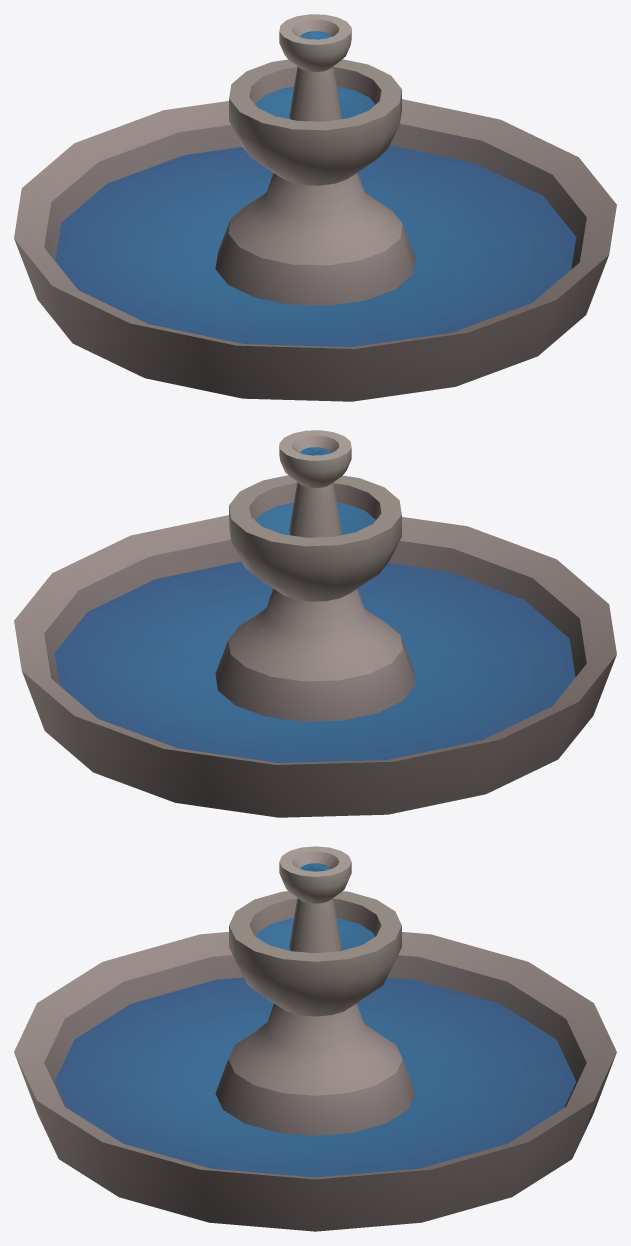
File: Fountain.obj
3 renders of one model, top to bottom at view 1: azimuth 30°, elevation 25°; view 2: azimuth 150°, elevation 25°; view 3: azimuth 270°, elevation 25°, orthographic.
Parts seen in each view (by area): view 1: {mesh}Fountain_Cylinder.043; view 2: {mesh}Fountain_Cylinder.043; view 3: {mesh}Fountain_Cylinder.043.
Boxes of the visible parts, x1=… form: {mesh}Fountain_Cylinder.043: x1=14, y1=14, x2=616, y2=401; {mesh}Fountain_Cylinder.043: x1=14, y1=430, x2=616, y2=817; {mesh}Fountain_Cylinder.043: x1=14, y1=846, x2=616, y2=1231.
Size of the model in its own units: 172 by 79.5 by 172.
